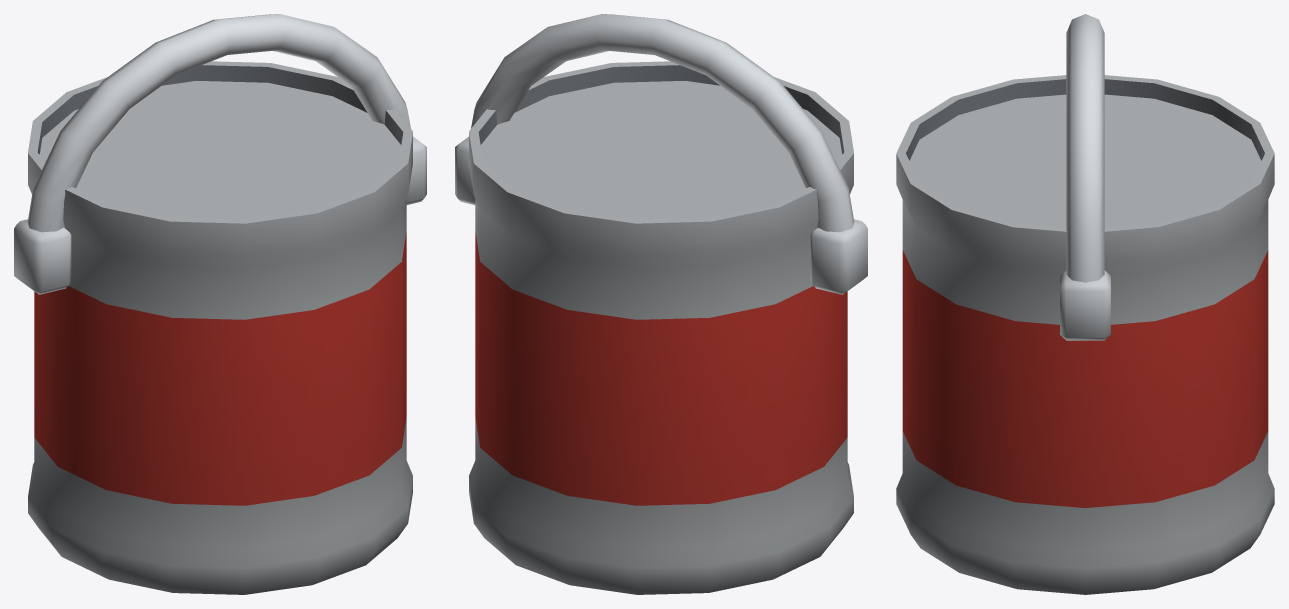
The model's file is PaintCan_01.glb.
3 views of the same model, side by side, from view 1: azimuth 30°, elevation 25°; view 2: azimuth 150°, elevation 25°; view 3: azimuth 270°, elevation 25° (orthographic). The views are drawn at different scales.
Visible parts, largest first — view 1: SM_PaintCan_01; view 2: SM_PaintCan_01; view 3: SM_PaintCan_01.
Boxes of the visible parts, left/top/right/bottom form: SM_PaintCan_01: left=14, top=14, right=426, bottom=594; SM_PaintCan_01: left=455, top=14, right=867, bottom=594; SM_PaintCan_01: left=896, top=14, right=1274, bottom=594.
Bounding box in the file's own units: 0.208 × 0.252 × 0.178.
Materials: 1 (1 with a texture image).
